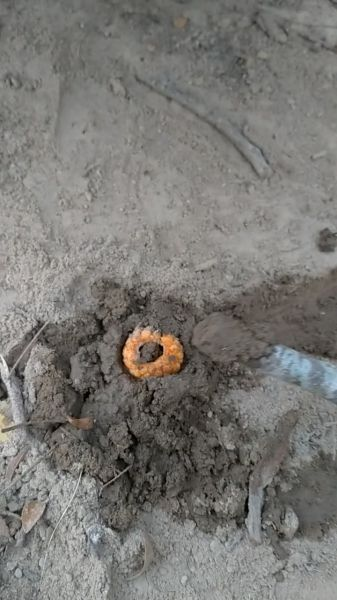eggs: (116, 321, 189, 384)
